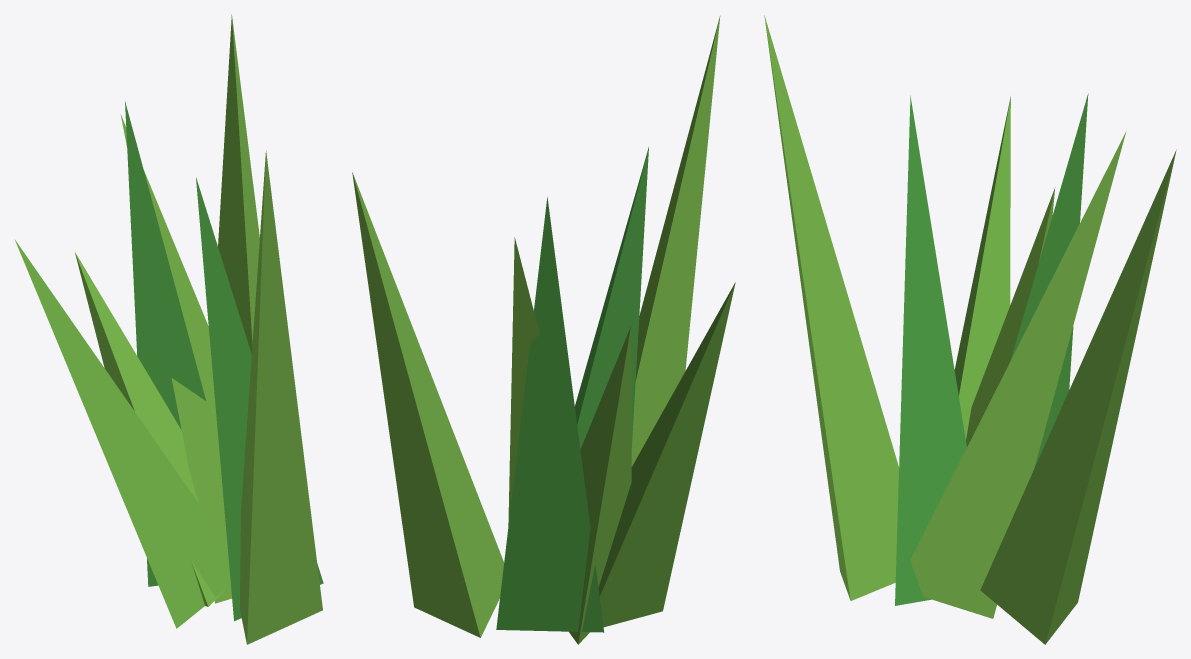
Rendered from Grass_Tuft_A.fbx.
3 views of the same model, side by side, from view 1: azimuth 30°, elevation 25°; view 2: azimuth 150°, elevation 25°; view 3: azimuth 270°, elevation 25° (orthographic). The views are drawn at different scales.
Visible parts, largest first — view 1: Grass_Tuft_A; view 2: Grass_Tuft_A; view 3: Grass_Tuft_A.
Boxes of the visible parts, bbox=[...] form: Grass_Tuft_A: bbox=[14, 14, 323, 644]; Grass_Tuft_A: bbox=[352, 15, 735, 644]; Grass_Tuft_A: bbox=[764, 15, 1176, 644].
Bounding box in the file's own units: 0.3559 × 0.6071 × 0.4076.
